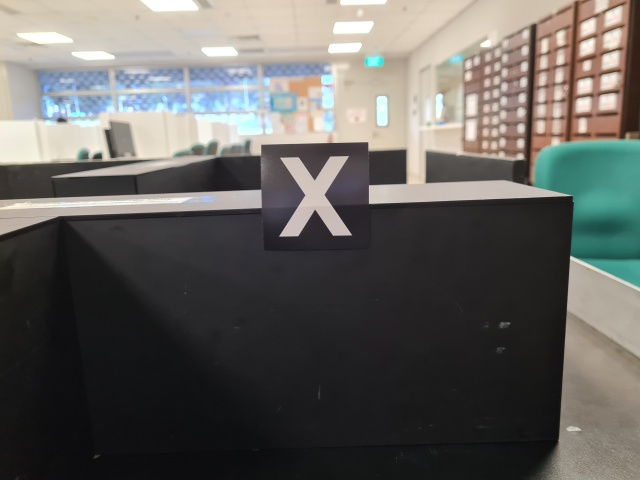alphabet_x: (259, 142, 372, 251)
